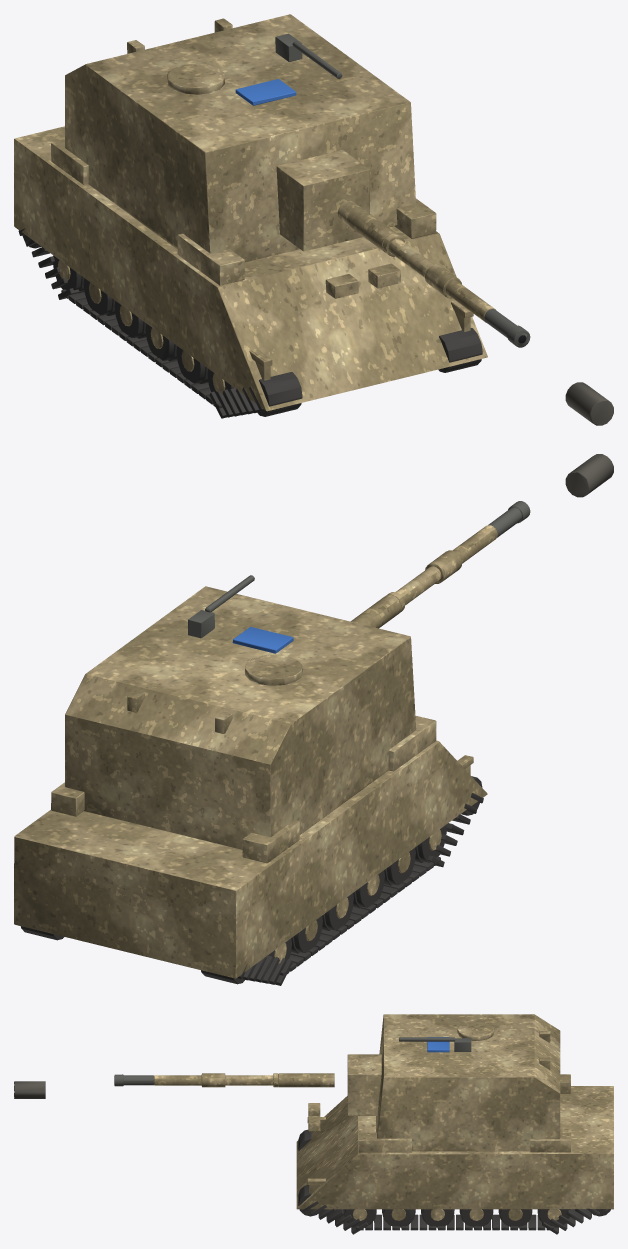
The model's file is art_e4_us_sph_LOD1.glb.
The picture shows the model from 3 angles, top to bottom: view 1: azimuth 30°, elevation 25°; view 2: azimuth 150°, elevation 25°; view 3: azimuth 270°, elevation 25°; orthographic projection. The views are drawn at different scales.
Visible parts, largest first — view 1: art_e4_us_sph_LOD1_body, art_e4_us_sph_LOD1_track, art_e4_us_sph_LOD1_gun, art_e4_us_sph_LOD1_deck, art_e4_us_sph_LOD1_team; view 2: art_e4_us_sph_LOD1_body, art_e4_us_sph_LOD1_track, art_e4_us_sph_LOD1_gun, art_e4_us_sph_LOD1_deck, art_e4_us_sph_LOD1_team; view 3: art_e4_us_sph_LOD1_body, art_e4_us_sph_LOD1_track, art_e4_us_sph_LOD1_gun, art_e4_us_sph_LOD1_deck.
Part boxes in pixels (x1,y1,x2,y2): art_e4_us_sph_LOD1_body: [14, 14, 496, 411]; art_e4_us_sph_LOD1_track: [18, 228, 482, 418]; art_e4_us_sph_LOD1_gun: [275, 33, 530, 347]; art_e4_us_sph_LOD1_deck: [565, 382, 613, 425]; art_e4_us_sph_LOD1_team: [235, 79, 296, 105]; art_e4_us_sph_LOD1_body: [14, 525, 497, 978]; art_e4_us_sph_LOD1_track: [21, 776, 483, 985]; art_e4_us_sph_LOD1_gun: [188, 501, 530, 638]; art_e4_us_sph_LOD1_deck: [565, 454, 613, 497]; art_e4_us_sph_LOD1_team: [232, 627, 293, 653]; art_e4_us_sph_LOD1_body: [154, 1014, 613, 1220]; art_e4_us_sph_LOD1_track: [298, 1129, 610, 1234]; art_e4_us_sph_LOD1_gun: [114, 1037, 471, 1086]; art_e4_us_sph_LOD1_deck: [14, 1081, 45, 1098].
Bounding box in the file's own units: 3.15 × 3.8 × 11.71.
Materials: 6 (1 with a texture image).
